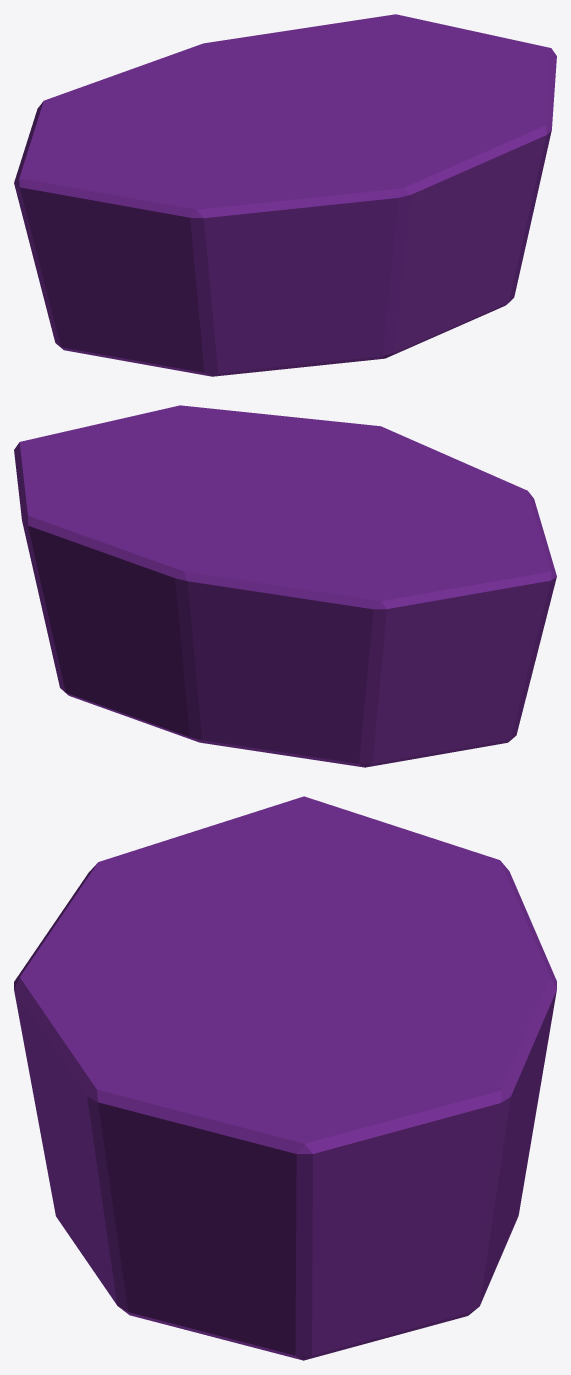
File: Heavenly Fire_body.fbx
The picture shows the model from 3 angles, top to bottom: view 1: azimuth 30°, elevation 25°; view 2: azimuth 150°, elevation 25°; view 3: azimuth 270°, elevation 25°; orthographic projection. The views are drawn at different scales.
Visible parts, largest first — view 1: Heavenly Fire_body_Baked; view 2: Heavenly Fire_body_Baked; view 3: Heavenly Fire_body_Baked.
Boxes of the visible parts, x1,y1,x2,y2 form: Heavenly Fire_body_Baked: (14,14,556,376); Heavenly Fire_body_Baked: (14,405,556,767); Heavenly Fire_body_Baked: (14,796,556,1360).
Bounding box in the file's own units: 315 × 102 × 206.
Materials: 1 (1 with a texture image).
